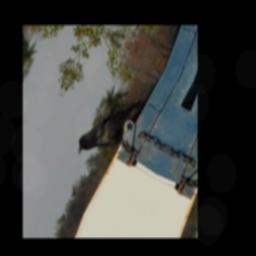Crow: (73, 81, 144, 173)
